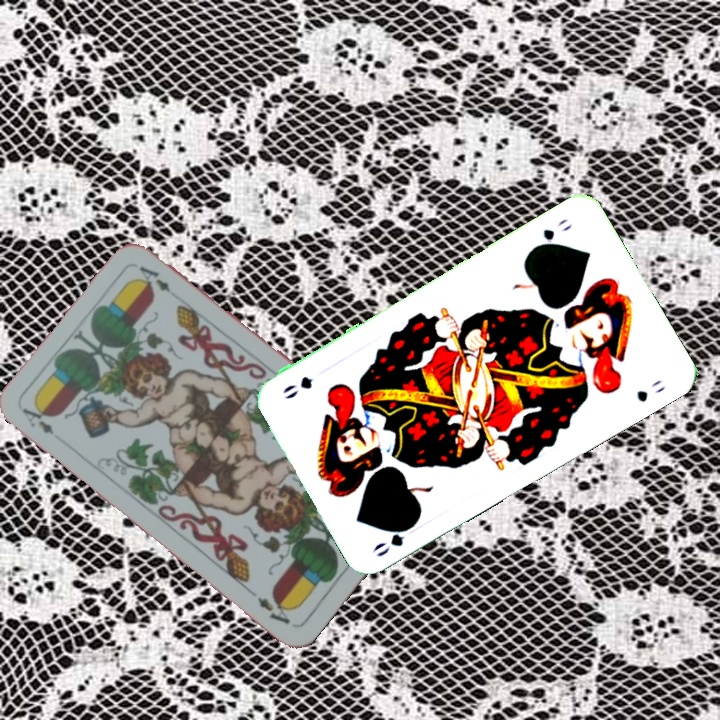EA: (18, 399, 57, 438)
GO: (368, 517, 420, 560), (528, 214, 575, 253)
